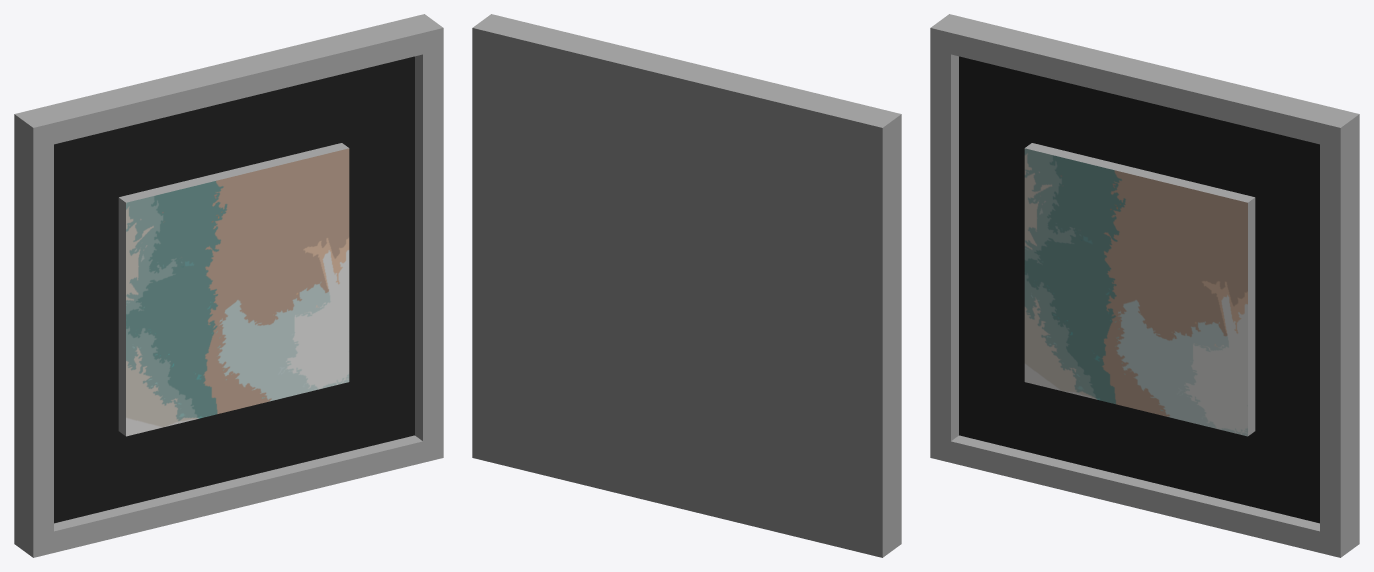
Rendered from Painting Small.fbx.
3 renders of one model, left to right at view 1: azimuth 30°, elevation 25°; view 2: azimuth 150°, elevation 25°; view 3: azimuth 330°, elevation 25°, orthographic.
Visible parts, largest first — view 1: Painting Small; view 2: Painting Small; view 3: Painting Small.
Boxes of the visible parts, x1,y1,x2,y2 form: Painting Small: (14, 14, 443, 557); Painting Small: (472, 14, 901, 557); Painting Small: (930, 14, 1359, 557).
Size of the model in its own units: 45.84 by 45.92 by 3.67.
